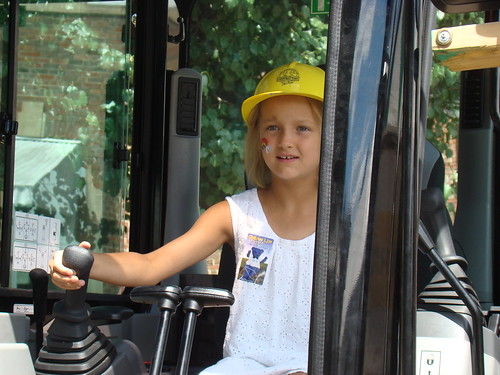person hardhat: (71, 60, 329, 375)
